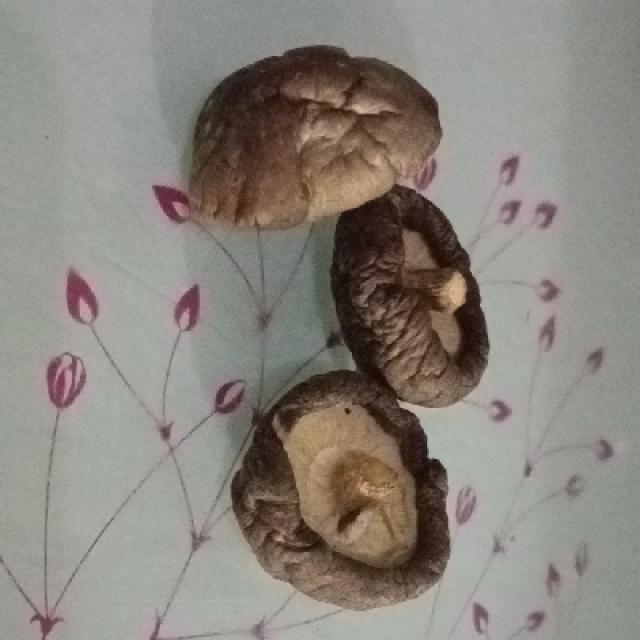Lentinus edodes: (236, 367, 449, 604), (192, 47, 442, 227), (336, 184, 492, 408)
